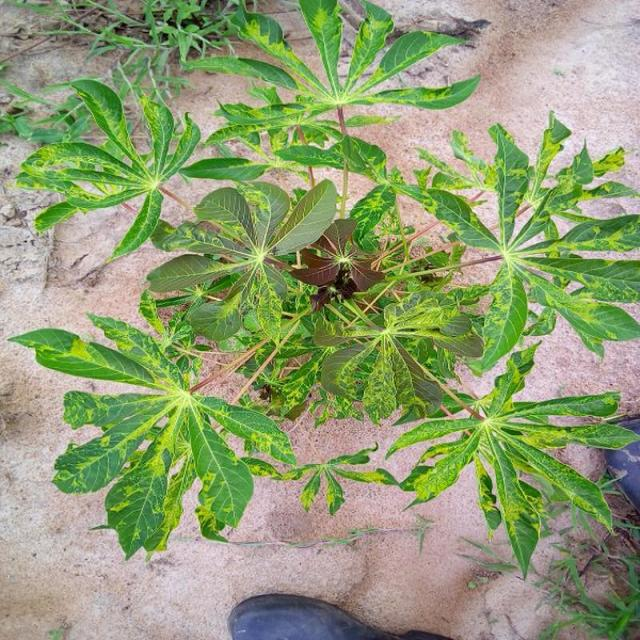cassava leaf: (9, 1, 639, 578)
